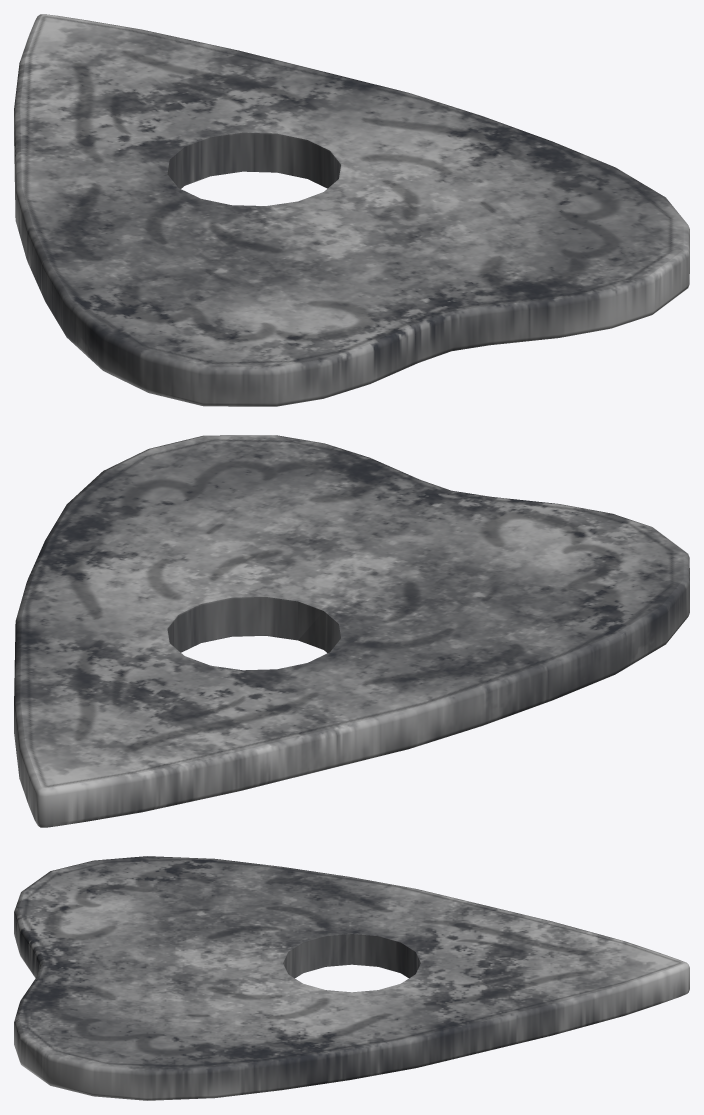
The model's file is Planchette.fbx.
3 views of the same model, one above another, from view 1: azimuth 30°, elevation 25°; view 2: azimuth 150°, elevation 25°; view 3: azimuth 270°, elevation 25° (orthographic). The views are drawn at different scales.
Parts seen in each view (by area): view 1: Planchette; view 2: Planchette; view 3: Planchette.
Part boxes in pixels (<box>): Planchette: <box>14,14,689,406</box>; Planchette: <box>14,435,689,827</box>; Planchette: <box>14,856,689,1100</box>.
Bounding box in the file's own units: 3.05 × 4.01 × 0.201.
